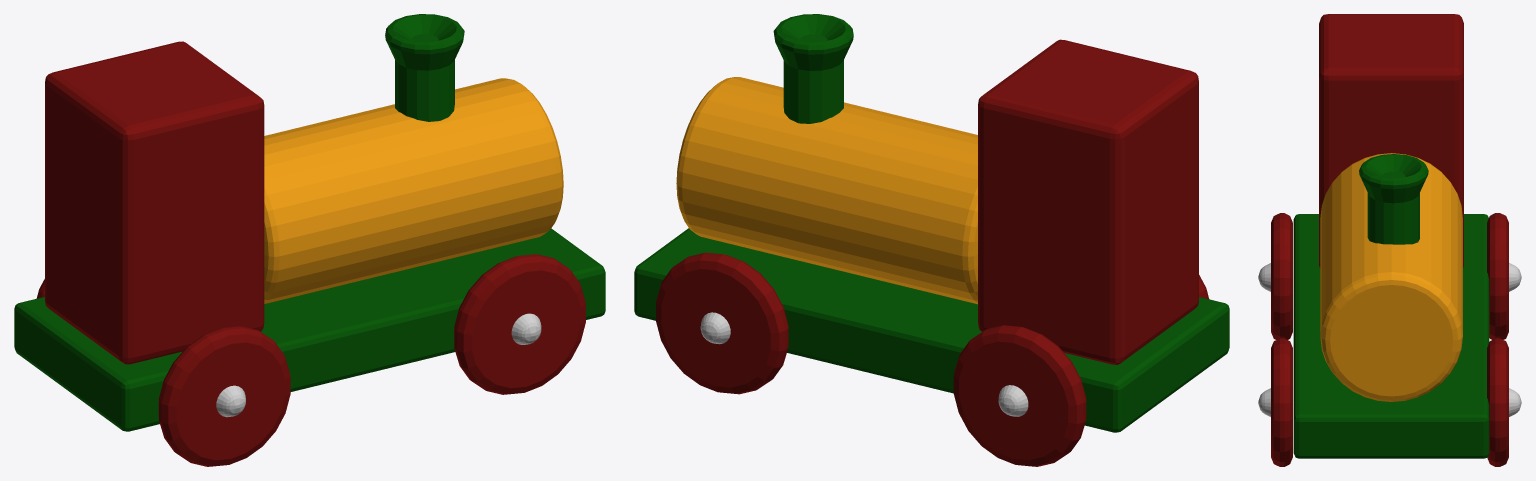
Rendered from train.obj.
3 renders of one model, left to right at view 1: azimuth 30°, elevation 25°; view 2: azimuth 150°, elevation 25°; view 3: azimuth 270°, elevation 25°, orthographic. The views are drawn at different scales.
Parts seen in each view (by area): view 1: Train; view 2: Train; view 3: Train.
Part boxes in pixels (box(x1,y1,x2,y2)): Train: box(14, 14, 605, 466); Train: box(634, 14, 1229, 466); Train: box(1258, 14, 1521, 466).
Bounding box in the file's own units: 2 × 1.33 × 1.08.
